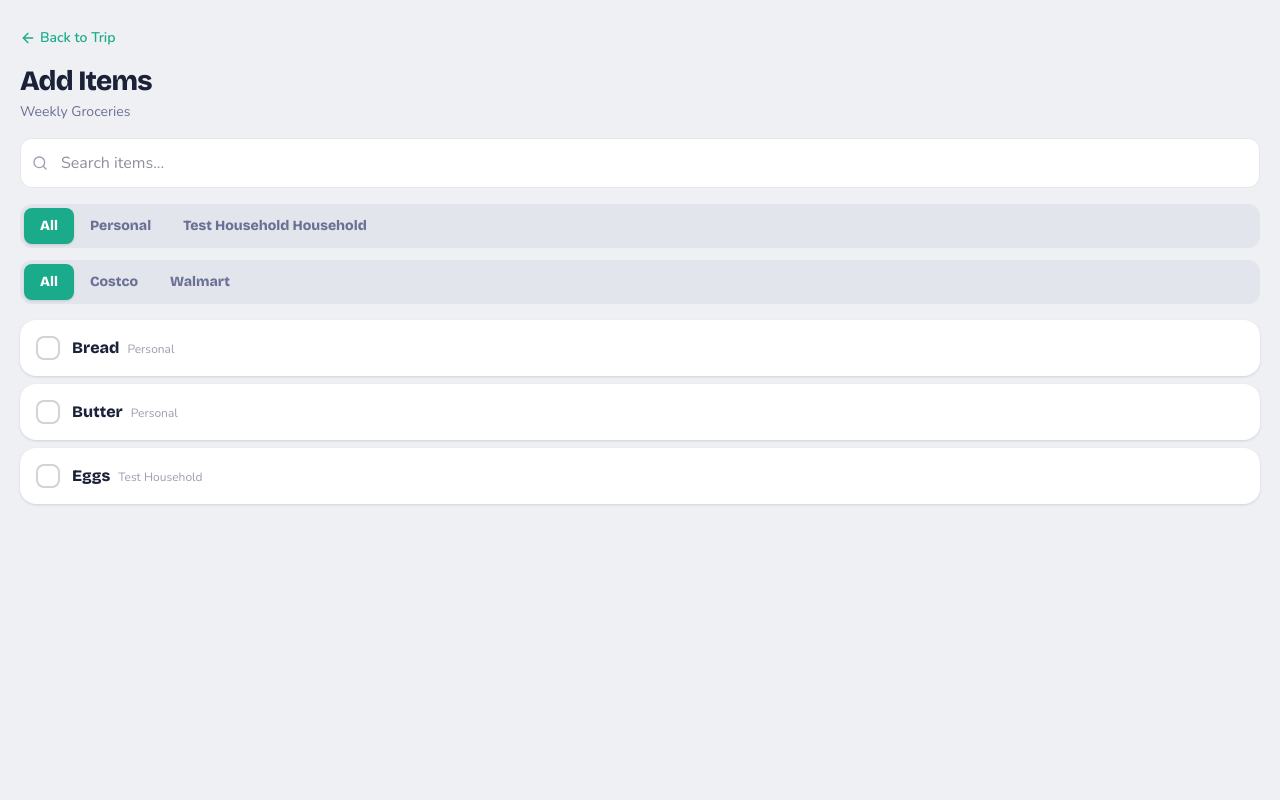
Test: AddTripItemsPage › shows quantity input when item is selected
Click the text "Bread" at (96, 348), box [72, 338, 119, 357]
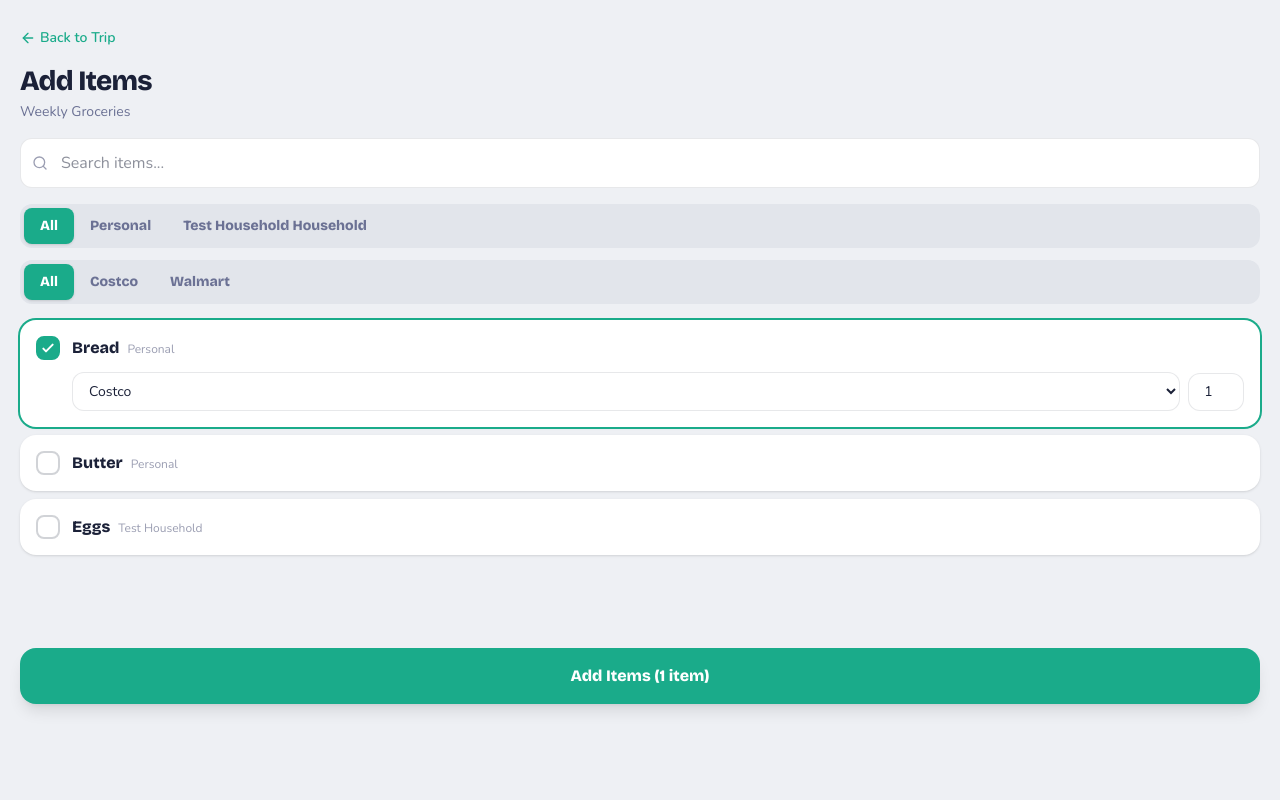
Result: the number field named "Quantity" is shown at [1188, 372, 1244, 410]
